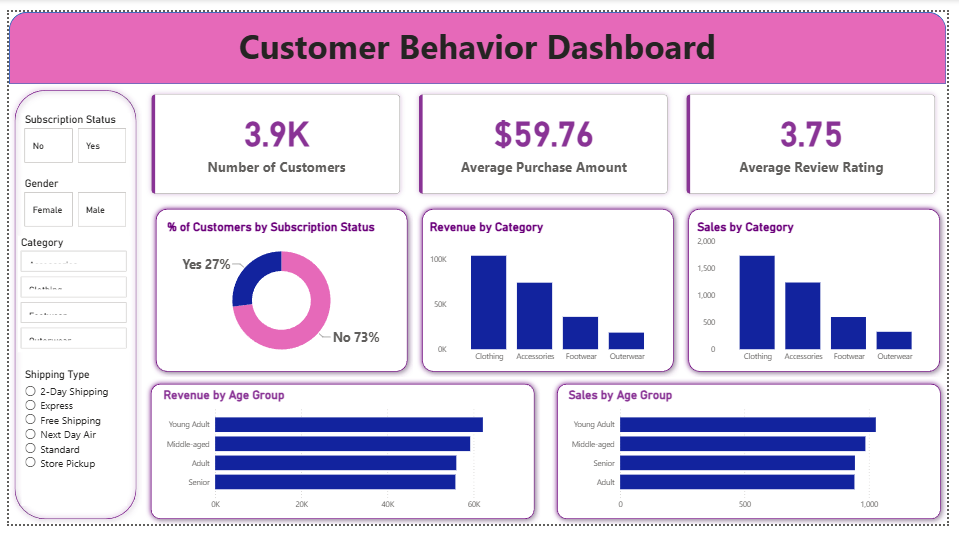

This screenshot's page, from the dashboard's own definition file:
{"tool":"powerbi","page":{"name":"Page 1","canvas":[1500,820],"ordinal":0},"visuals":[{"type":"cardVisual","fields":{"Data":["public customer.Number of Customers","public customer.Average Purchase Amount","public customer.Average Review Rating"]},"box":[212.9,115.3,1286.5,191.6],"z":2000},{"type":"shape","box":[218.3,585.6,631.7,234.2],"z":2500,"group":"g1"},{"type":"shape","box":[0,0,1499.4,115.3],"z":3000},{"type":"textbox","box":[0,12.4,1499.4,102.9],"z":4000},{"type":"shape","box":[225.4,307,420.5,278.6],"z":5000},{"type":"donutChart","title":"% of Customers by Subscription Status","fields":{"Category":["public customer.subscription_status"],"Y":["CountNonNull(public customer.customer_id)"]},"box":[248.4,331.8,376.2,237.8],"z":6000},{"type":"shape","box":[1078.9,307,420.5,278.6],"z":7000},{"type":"shape","box":[652.1,307,420.5,278.6],"z":8000},{"type":"clusteredColumnChart","title":"Revenue by Category","fields":{"Y":["Sum(public customer.purchase_amount)"],"Category":["public customer.category"]},"box":[667.2,331.8,385.1,237.8],"z":9000},{"type":"clusteredColumnChart","title":"Sales by Category","fields":{"Y":["CountNonNull(public customer.customer_id)"],"Category":["public customer.category"]},"box":[1096.6,331.8,385.1,237.8],"z":10000},{"type":"shape","box":[0,115.3,212.9,704.5],"z":11000},{"type":"advancedSlicerVisual","fields":{"Values":["public customer.subscription_status"]},"box":[19.5,161.5,173.9,85.2],"z":12000},{"type":"advancedSlicerVisual","fields":{"Values":["public customer.gender"]},"box":[19.5,264.4,173.9,85.2],"z":13000},{"type":"advancedSlicerVisual","fields":{"Values":["public customer.category"]},"box":[14.2,358.4,179.2,186.3],"z":14000},{"type":"listSlicer","fields":{"Values":["public customer.shipping_type"]},"box":[19.5,569.6,168.6,220],"z":15000},{"type":"shape","box":[867.7,585.6,631.7,234.2],"z":16000},{"type":"clusteredBarChart","title":"Sales by Age Group","fields":{"Y":["CountNonNull(public customer.customer_id)"],"Category":["public customer.age_group"]},"box":[890.8,601.5,585.6,204.1],"z":17000},{"type":"clusteredBarChart","title":"Revenue by Age Group","fields":{"Y":["Sum(public customer.purchase_amount)"],"Category":["public customer.age_group"]},"box":[241.4,601.6,585.6,204.1],"z":17500,"group":"g1"},{"type":"group","id":"g1","title":"Group 1","box":[218.3,585.6,631.7,234.2],"z":17501}]}

Visuals, with their boxes in screenshot pixels (x1, y1, x2, y2), scaled from the page's 1500x820 canvas onto the 959x539 screenshot:
cardVisual - public customer.Number of Customers x public customer.Average Purchase Amount: select_region(136, 76, 958, 202)
shape: select_region(140, 385, 543, 538)
shape: select_region(0, 0, 958, 76)
textbox: select_region(0, 8, 958, 76)
shape: select_region(144, 202, 413, 385)
"% of Customers by Subscription Status" donutChart: select_region(159, 218, 399, 374)
shape: select_region(690, 202, 958, 385)
shape: select_region(417, 202, 686, 385)
"Revenue by Category" clusteredColumnChart: select_region(427, 218, 673, 374)
"Sales by Category" clusteredColumnChart: select_region(701, 218, 947, 374)
shape: select_region(0, 76, 136, 538)
advancedSlicerVisual - public customer.subscription_status: select_region(12, 106, 124, 162)
advancedSlicerVisual - public customer.gender: select_region(12, 174, 124, 230)
advancedSlicerVisual - public customer.category: select_region(9, 236, 124, 358)
listSlicer - public customer.shipping_type: select_region(12, 374, 120, 519)
shape: select_region(555, 385, 958, 538)
"Sales by Age Group" clusteredBarChart: select_region(570, 395, 944, 530)
"Revenue by Age Group" clusteredBarChart: select_region(154, 395, 529, 530)
"Group 1" group: select_region(140, 385, 543, 538)
